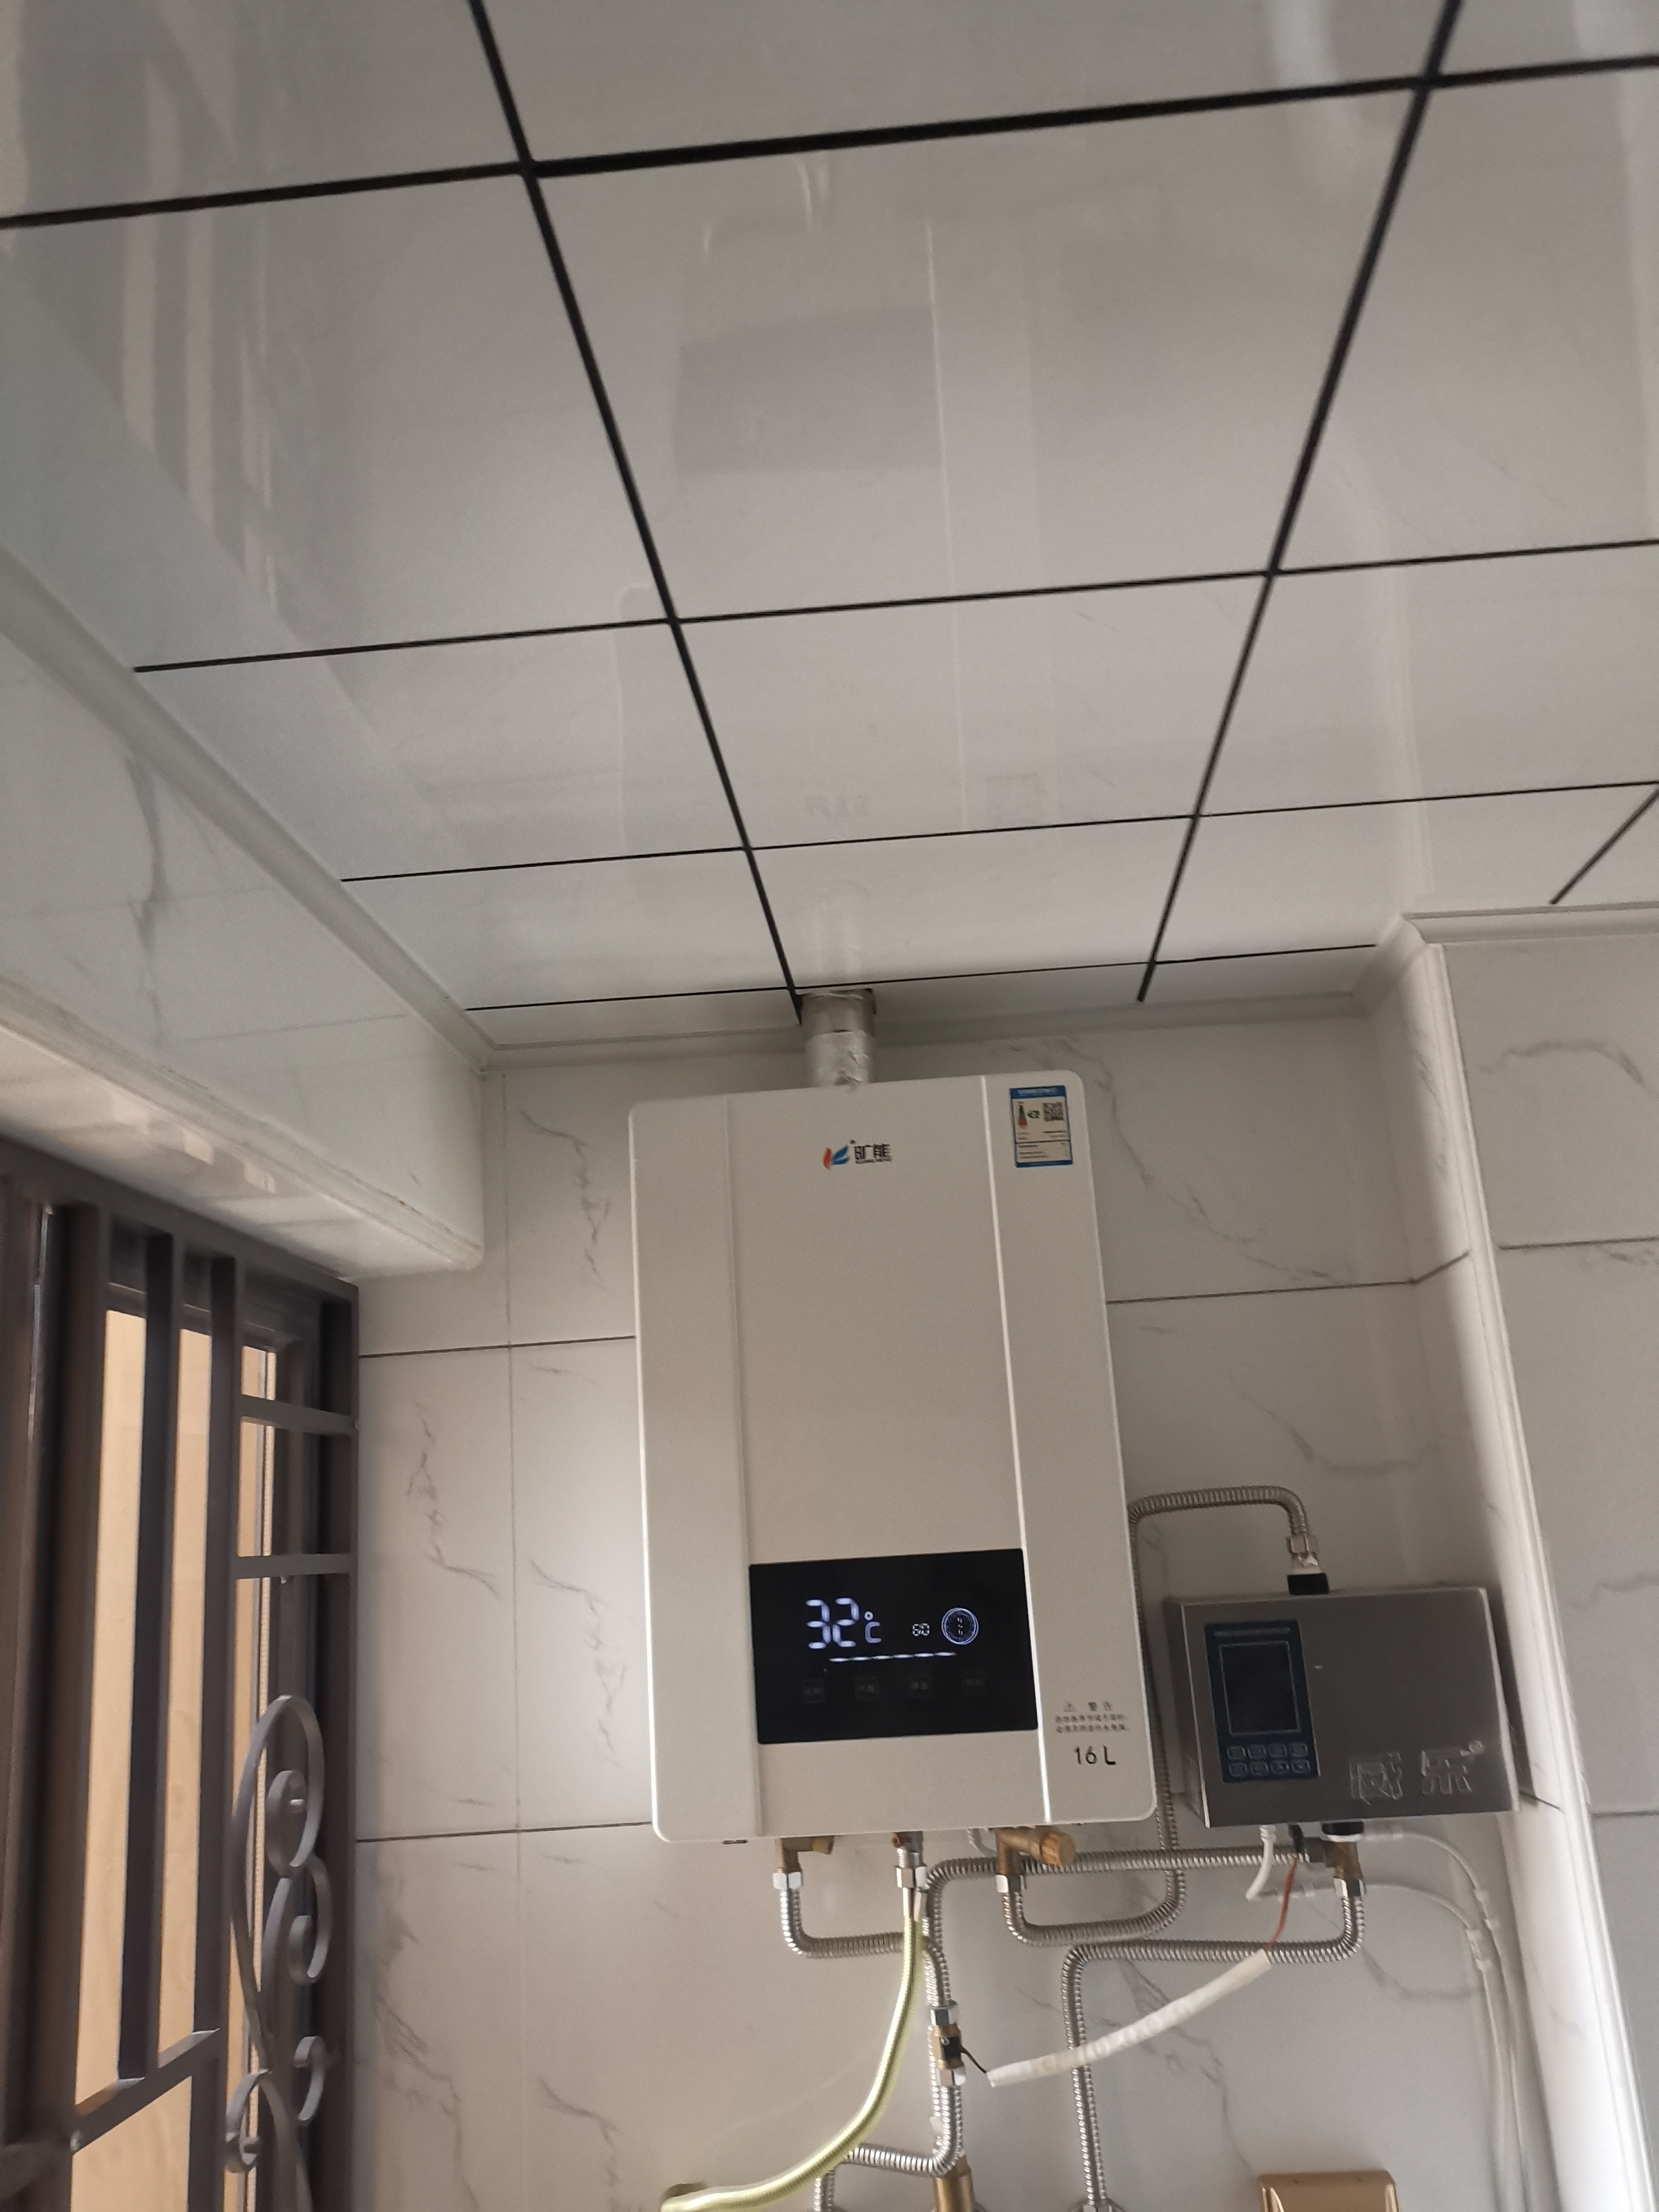loudou: (805, 1127, 915, 1177)
